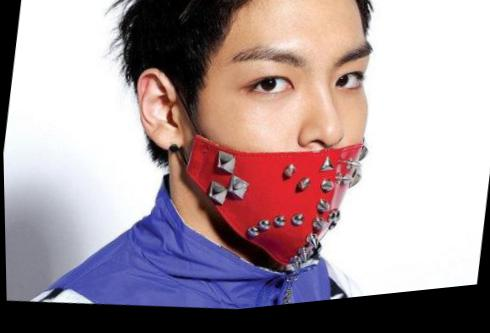WRONG: (150, 17, 394, 275)
